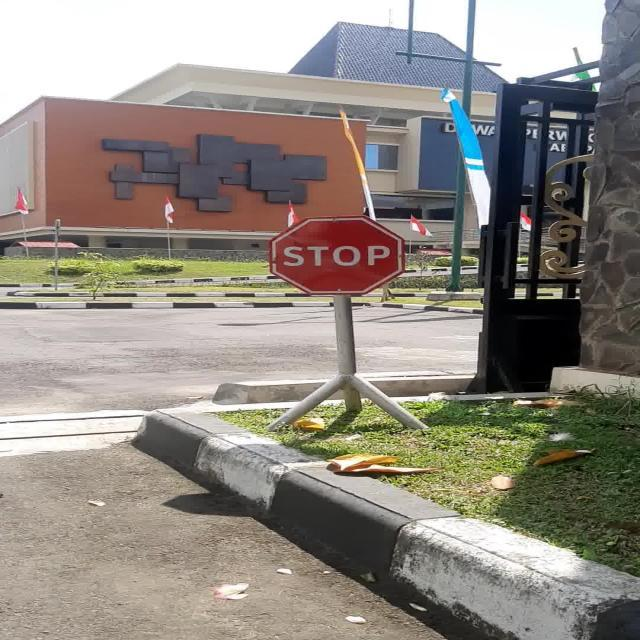Berhenti: (270, 215, 404, 295)
